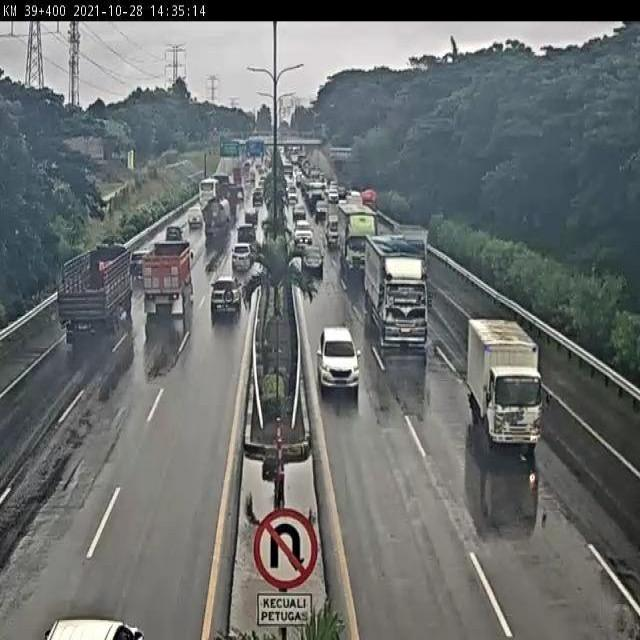big truck: (61, 219, 125, 349), (356, 240, 428, 343), (146, 235, 191, 332), (342, 207, 382, 268), (202, 196, 231, 244)
car: (51, 600, 157, 640), (319, 318, 358, 382), (210, 276, 234, 321), (305, 241, 328, 280), (128, 243, 145, 285), (231, 247, 249, 285), (158, 223, 178, 257), (182, 205, 197, 239), (291, 222, 312, 246), (242, 213, 257, 239), (235, 230, 253, 250), (252, 191, 264, 209), (314, 199, 325, 217), (292, 202, 306, 215), (328, 214, 334, 242)
small truck: (468, 317, 552, 448)
